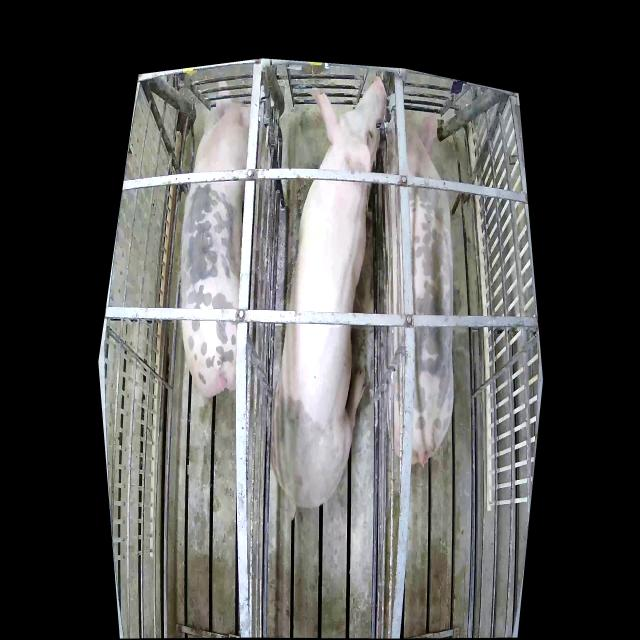pig: (270, 74, 387, 511), (383, 107, 453, 466), (180, 76, 250, 397)
